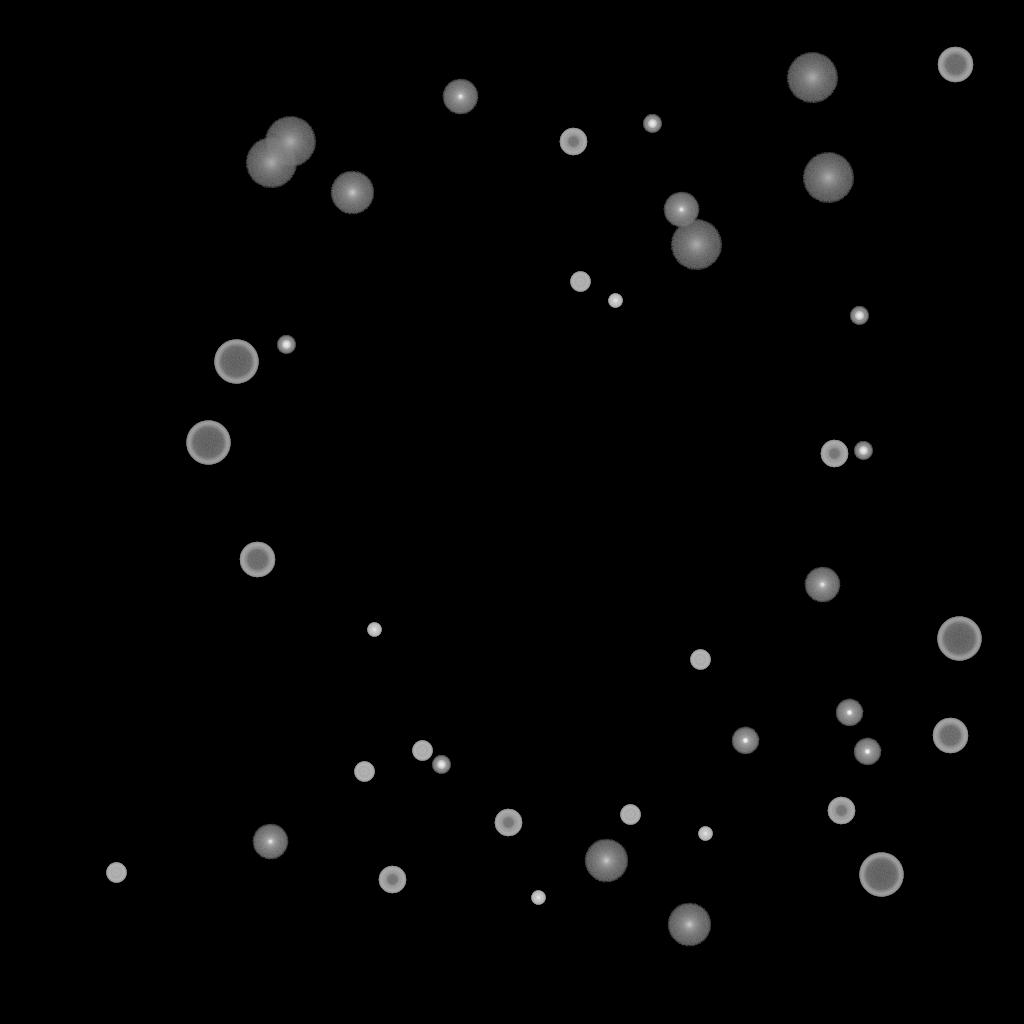depth:-10: (853, 738, 881, 766), (731, 727, 759, 755), (835, 699, 863, 727)
depth:-20: (432, 756, 450, 774), (850, 307, 868, 325), (643, 115, 661, 133), (277, 336, 295, 354), (854, 442, 872, 460)
depth:-30: (698, 827, 712, 841), (608, 294, 622, 308), (367, 623, 381, 637), (531, 891, 545, 905)
depth:-40: (620, 805, 640, 825), (106, 863, 126, 883), (690, 650, 710, 670), (412, 741, 432, 761), (354, 762, 374, 782), (570, 272, 590, 292)
depth:-50: (559, 128, 587, 156), (494, 809, 522, 837), (820, 440, 848, 468), (827, 797, 855, 825), (378, 866, 406, 894)
depth:-60: (932, 718, 968, 754), (937, 47, 973, 83), (239, 542, 275, 578)
depth:-70: (214, 340, 258, 384), (859, 853, 903, 897), (186, 421, 230, 465), (937, 617, 981, 661)
depth:0: (252, 824, 288, 860), (804, 567, 840, 603), (442, 79, 478, 115), (663, 192, 699, 228)
depth:10: (667, 903, 711, 947), (584, 839, 628, 883), (330, 171, 374, 215)
depth:20: (786, 53, 838, 103), (802, 153, 854, 203), (670, 220, 722, 270), (245, 138, 297, 188), (264, 117, 316, 167)
